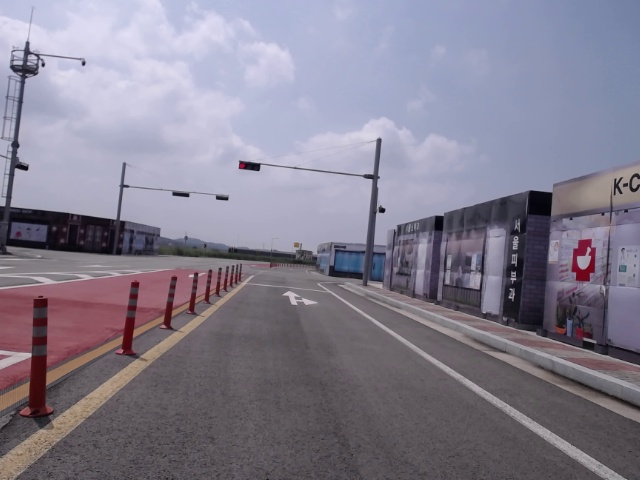red_3: (238, 161, 260, 171)
